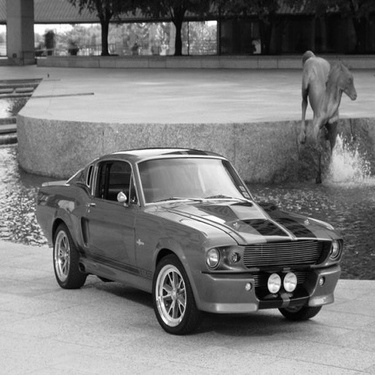car: (23, 131, 351, 320)
